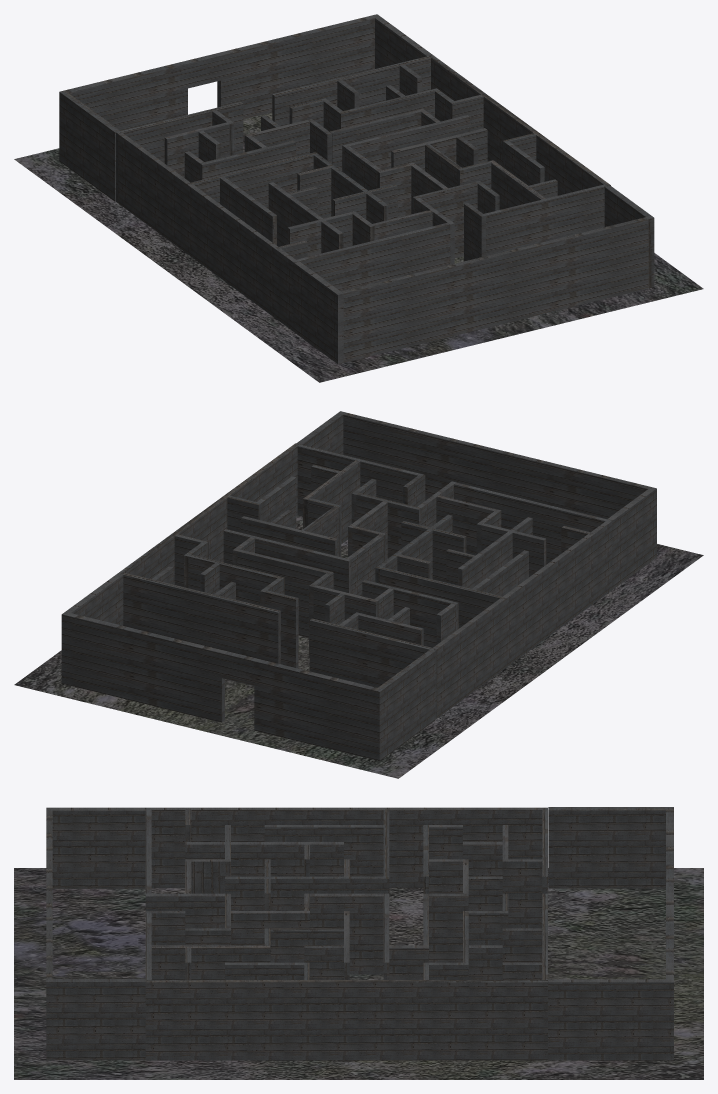
The model's file is Maze_One.glb.
3 renders of one model, top to bottom at view 1: azimuth 30°, elevation 25°; view 2: azimuth 150°, elevation 25°; view 3: azimuth 270°, elevation 25°, orthographic. The views are drawn at different scales.
Visible parts, largest first — view 1: Maze_One; view 2: Maze_One; view 3: Maze_One.
Boxes of the visible parts, x1,y1,x2,y2 form: Maze_One: [14, 14, 703, 382]; Maze_One: [14, 411, 703, 778]; Maze_One: [14, 807, 703, 1079].
Bounding box in the file's own units: 102 × 17.54 × 140.
2 materials, 2 textured.
